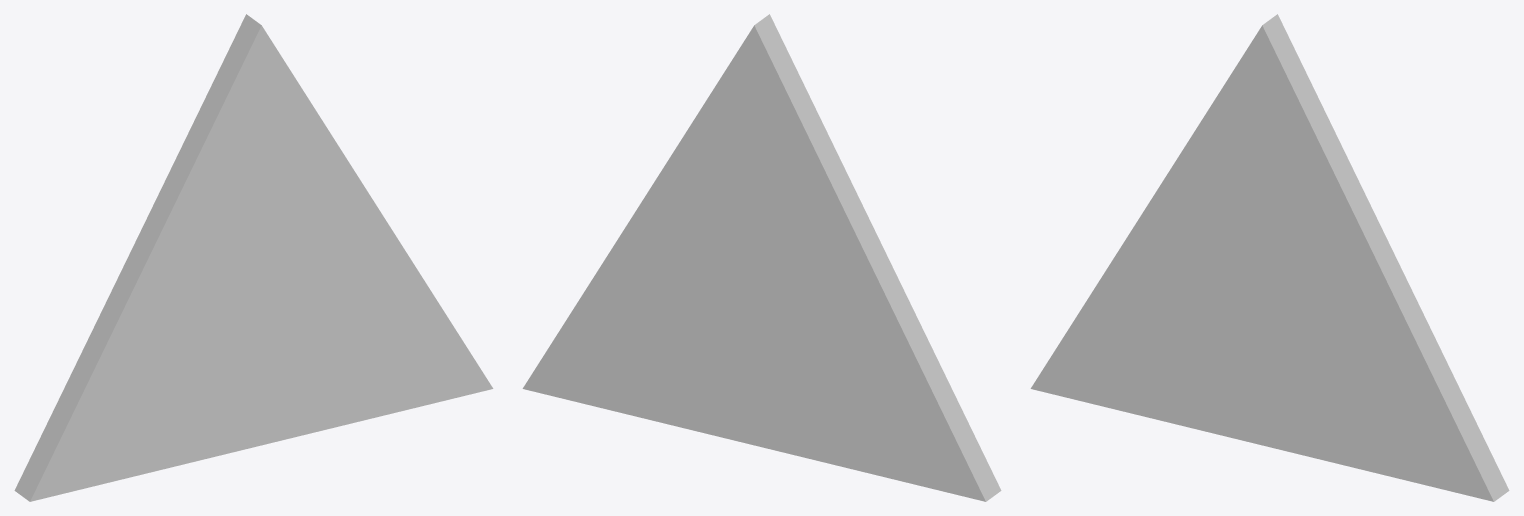
File: icons.glb
The picture shows the model from 3 angles, left to right: view 1: azimuth 30°, elevation 25°; view 2: azimuth 150°, elevation 25°; view 3: azimuth 330°, elevation 25°; orthographic projection.
Parts seen in each view (by area): view 1: Unhover; view 2: Unhover; view 3: Unhover.
Boxes of the visible parts, x1,y1,x2,y2 form: Unhover: (14,14,493,501); Unhover: (522,14,1001,501); Unhover: (1030,14,1509,501).
Size of the model in its own units: 0.866 by 0.75 by 0.05.
1 material, 1 textured.
